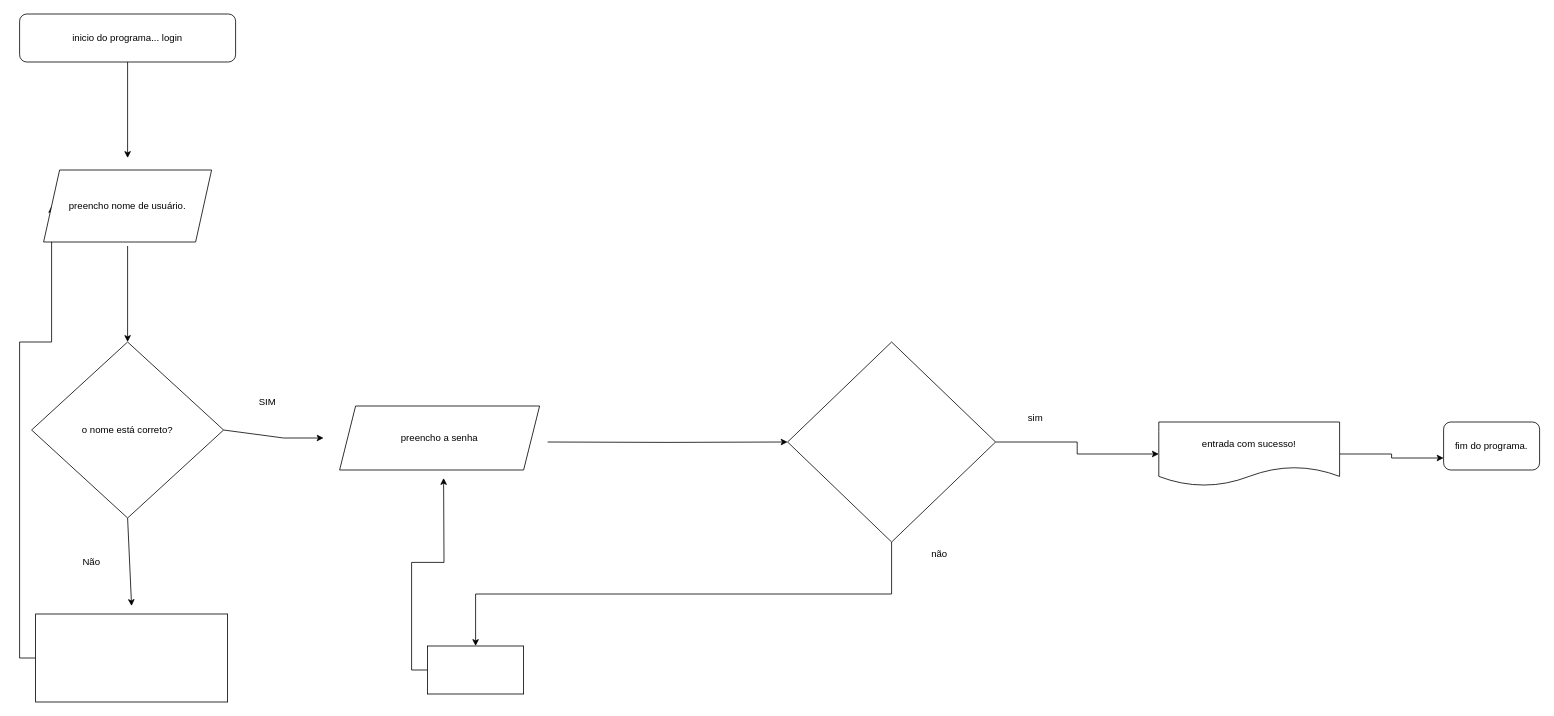
Some shapes in this 1554 by 716 pixel diagram are drawn without their labels. The centre of each missing label's shape, as x and y in pixels:
"a senha está correta?" goes at pixel 891 441.
"corrijo a senha" goes at pixel 475 669.
"corrijo o nome de usuário" goes at pixel 131 657.
